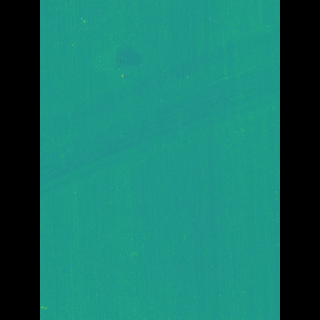Loch: (70, 23, 249, 198), (117, 36, 149, 80)
